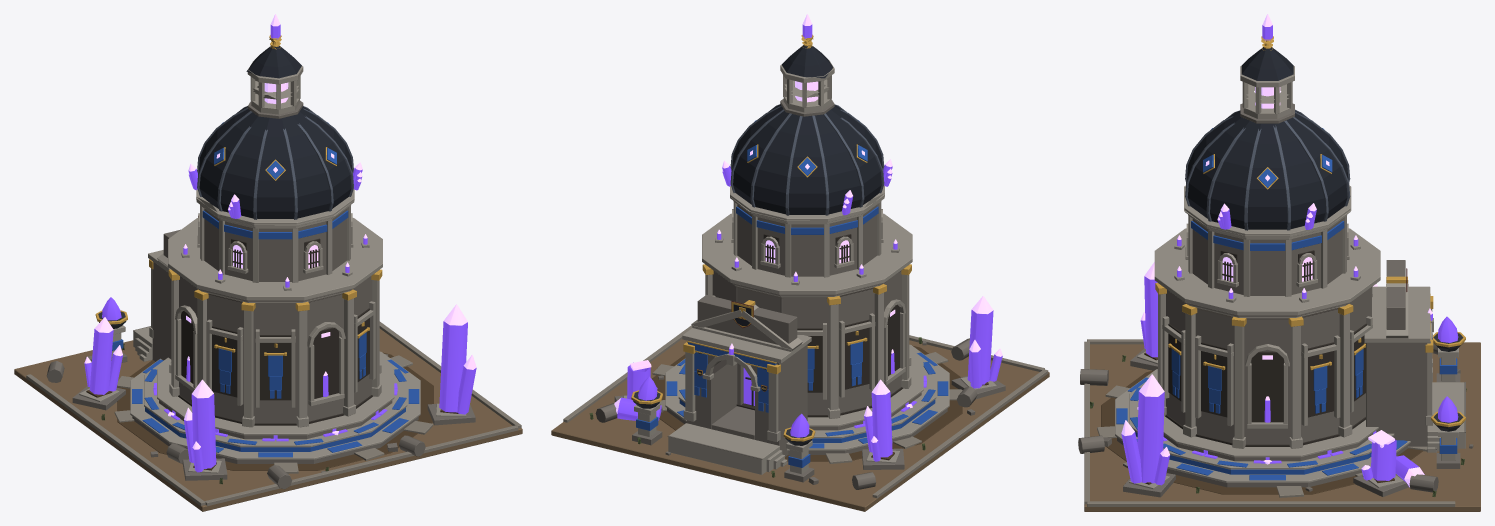
Rendered from 神秘圣地.glb.
3 renders of one model, left to right at view 1: azimuth 30°, elevation 25°; view 2: azimuth 150°, elevation 25°; view 3: azimuth 270°, elevation 25°, orthographic. The views are drawn at different scales.
Visible parts, largest first — view 1: MS-stone_light, MS-stone_mid, MS-roof_edge, MS-earth, MS-crystal, MS-team, MS-stone_dark, MS-paving, MS-earth_dark, MS-roof_pale, MS-crystal_pale, MS-gold; view 2: MS-stone_light, MS-stone_mid, MS-earth, MS-roof_edge, MS-crystal, MS-team, MS-paving, MS-stone_dark, MS-roof_pale, MS-gold, MS-crystal_pale, MS-earth_dark; view 3: MS-stone_light, MS-stone_mid, MS-roof_edge, MS-earth, MS-crystal, MS-team, MS-stone_dark, MS-paving, MS-roof_pale, MS-crystal_pale, MS-earth_dark, MS-gold.
Part boxes in pixels (x1,y1,x2,y2): MS-stone_light: (79, 61, 466, 473); MS-stone_mid: (46, 100, 475, 489); MS-roof_edge: (199, 45, 352, 218); MS-earth: (14, 328, 522, 511); MS-crystal: (84, 24, 476, 472); MS-team: (112, 122, 419, 457); MS-stone_dark: (178, 238, 373, 425); MS-paving: (26, 321, 521, 506); MS-earth_dark: (86, 352, 458, 470); MS-roof_pale: (197, 106, 353, 219); MS-crystal_pale: (84, 14, 476, 449); MS-gold: (95, 35, 382, 355); MS-stone_light: (623, 60, 996, 474); MS-stone_mid: (595, 99, 1005, 489); MS-earth: (551, 339, 1049, 511); MS-roof_edge: (697, 45, 882, 391); MS-crystal: (617, 24, 1002, 461); MS-team: (636, 120, 948, 467); MS-paving: (563, 325, 1048, 498); MS-stone_dark: (736, 234, 902, 417); MS-roof_pale: (730, 104, 884, 215); MS-gold: (631, 34, 911, 441); MS-crystal_pale: (614, 14, 1002, 442); MS-earth_dark: (652, 345, 988, 461); MS-stone_light: (1115, 66, 1465, 489); MS-stone_mid: (1078, 103, 1473, 497); MS-roof_edge: (1187, 47, 1348, 229); MS-earth: (1084, 342, 1480, 511); MS-crystal: (1121, 25, 1458, 487); MS-team: (1116, 128, 1457, 480); MS-stone_dark: (1165, 250, 1366, 446); MS-paving: (1084, 339, 1455, 506); MS-roof_pale: (1185, 109, 1350, 230); MS-crystal_pale: (1121, 14, 1432, 486); MS-earth_dark: (1101, 352, 1422, 494); MS-gold: (1155, 36, 1465, 427).
Size of the model in its own units: 13.7 by 16.14 by 14.17.
